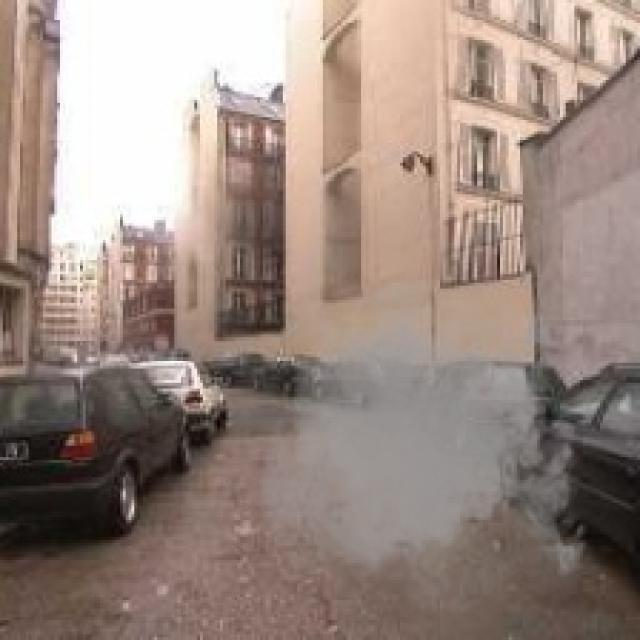Smoke: (254, 257, 597, 632)
